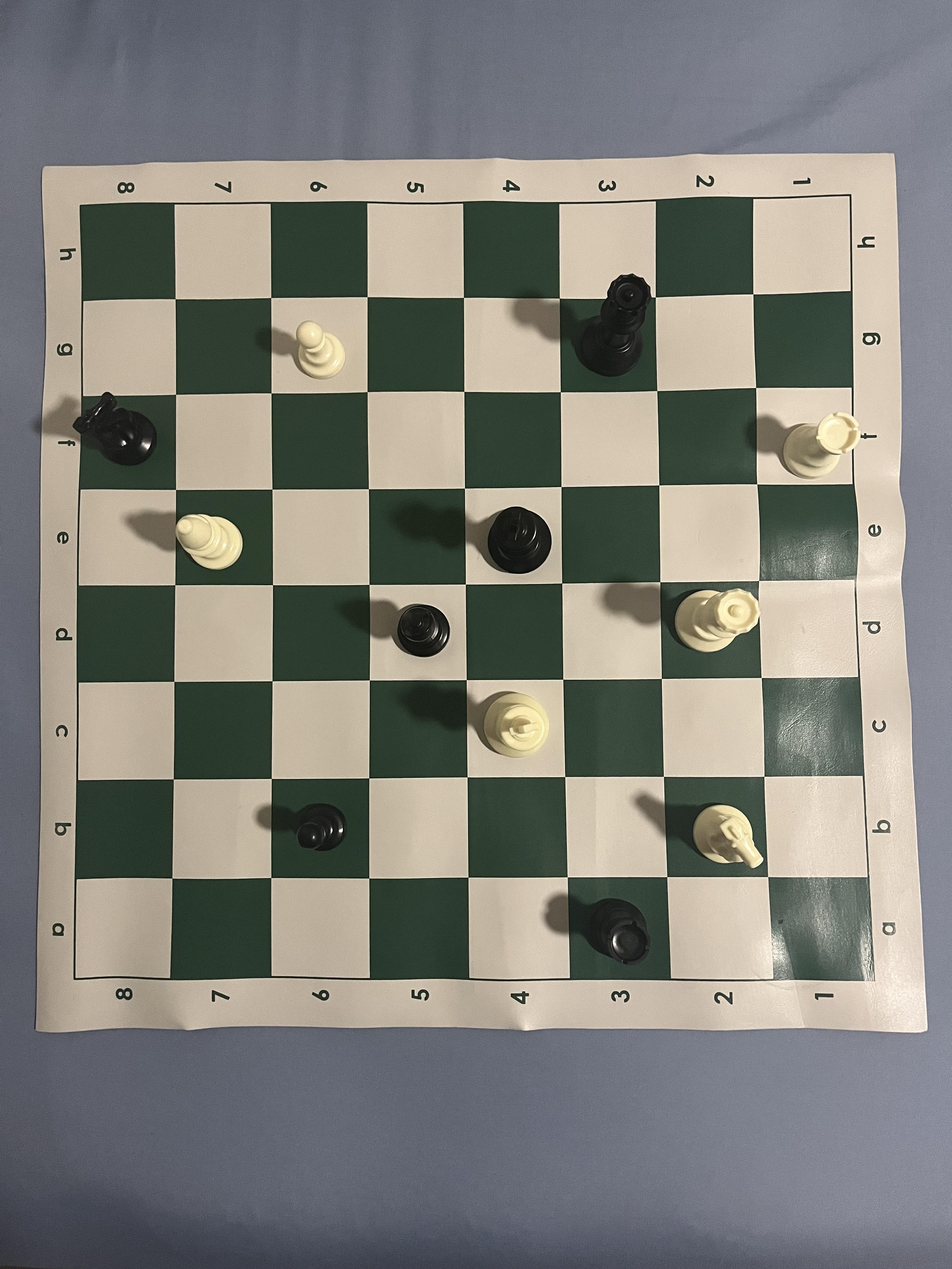black_bishop: (395, 603, 452, 661)
black_king: (485, 505, 555, 576)
black_knight: (70, 390, 161, 468)
black_pawn: (294, 803, 348, 854)
black_queen: (577, 271, 654, 380)
black_rook: (586, 897, 655, 969)
white_bishop: (173, 512, 246, 572)
white_king: (481, 691, 552, 760)
white_knight: (689, 802, 765, 872)
white_pawn: (293, 318, 348, 381)
white_queen: (672, 587, 762, 654)
white_rook: (780, 410, 864, 482)
